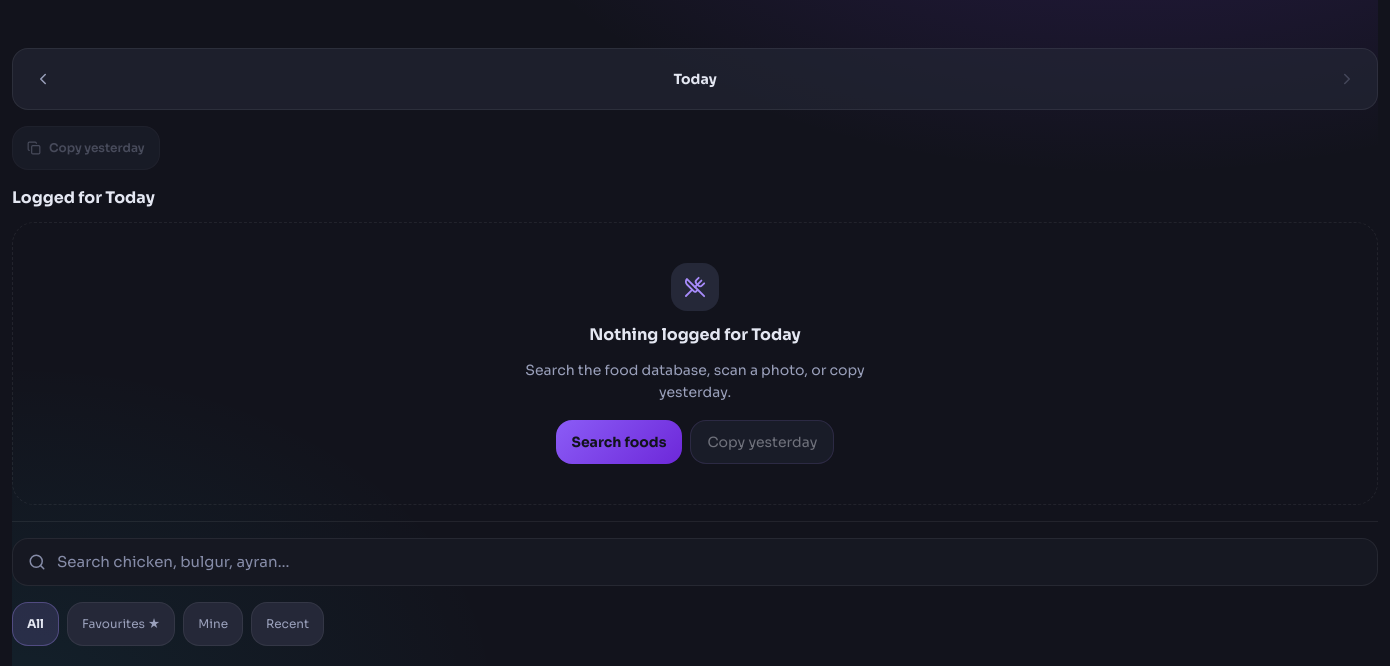
Test case: LogScreen — search › finds Turkish staples typed without accents
Type "kunefe" into the search field named "search foods".
click(695, 562); type("kunefe")  # box [12, 538, 1378, 586]
(page scrolled)
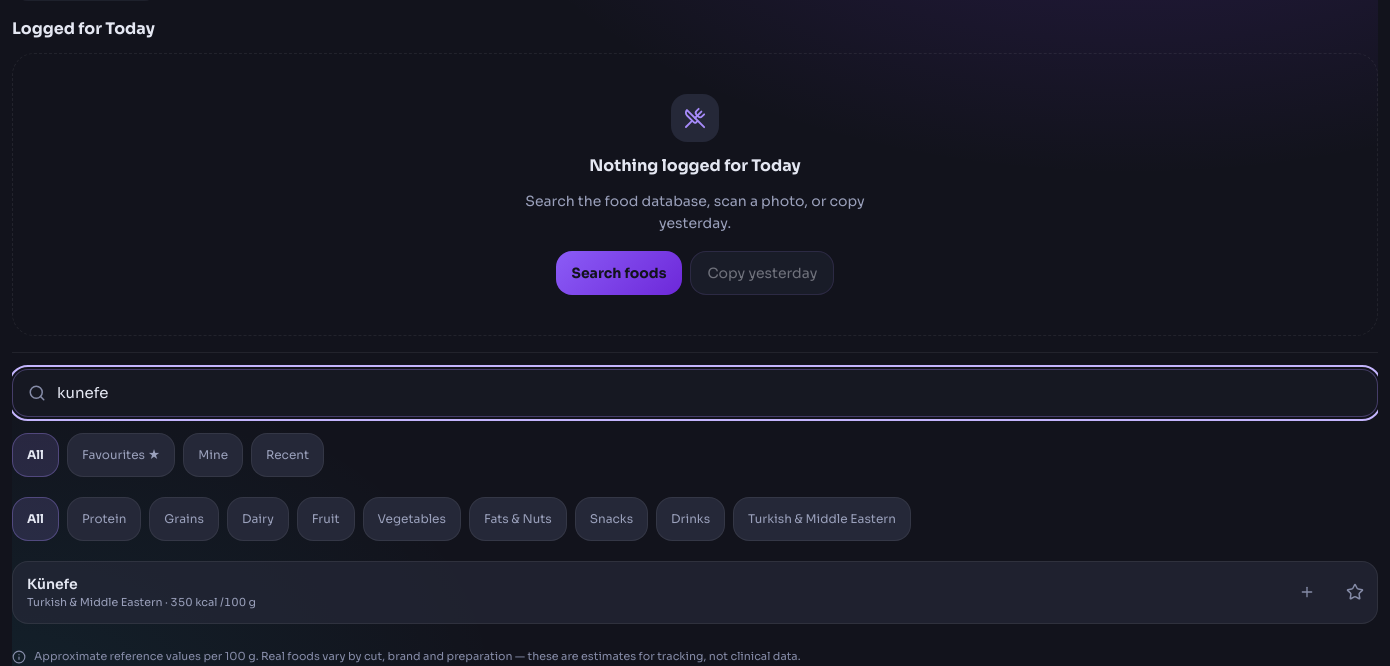
Expected: the button "Künefe turkish & middle eastern · 350 kcal /100 g" is shown, [13, 562, 1329, 623]
